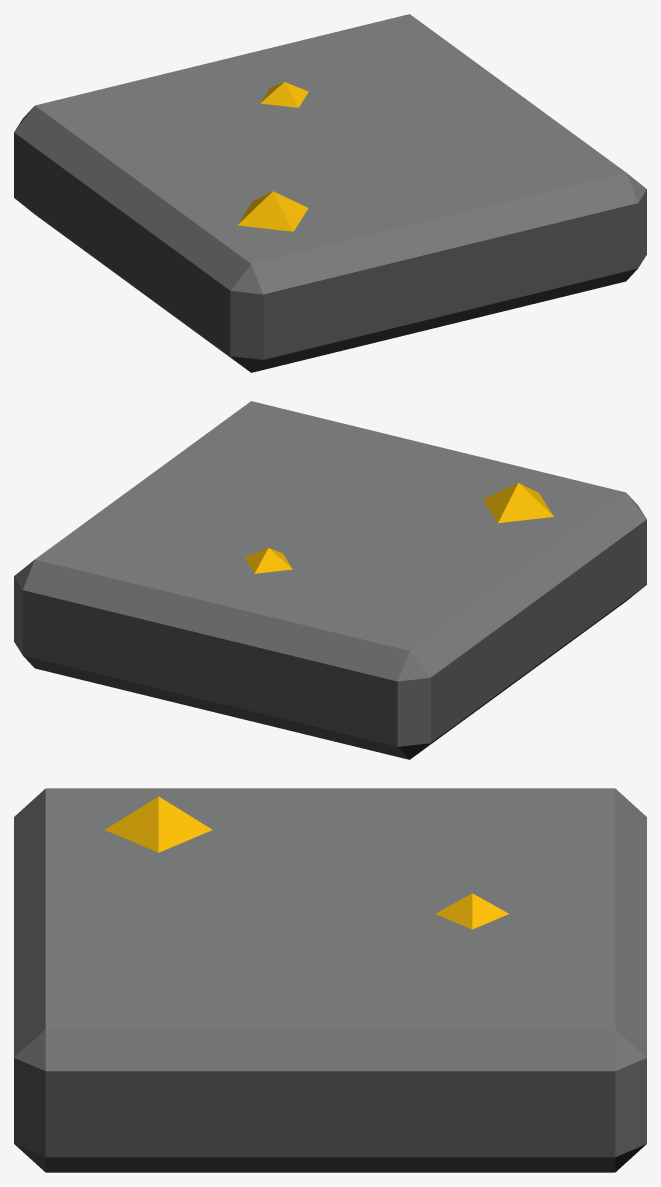
The model's file is m_kub_ore_flatPlate.FBX.
3 renders of one model, top to bottom at view 1: azimuth 30°, elevation 25°; view 2: azimuth 150°, elevation 25°; view 3: azimuth 270°, elevation 25°, orthographic. The views are drawn at different scales.
Parts seen in each view (by area): view 1: m_kub_ore_flatPlate; view 2: m_kub_ore_flatPlate; view 3: m_kub_ore_flatPlate.
Part boxes in pixels (box(x1,y1,x2,y2)): m_kub_ore_flatPlate: box(14, 14, 646, 372); m_kub_ore_flatPlate: box(14, 401, 646, 759); m_kub_ore_flatPlate: box(14, 788, 646, 1172).
Bounding box in the file's own units: 2 × 0.6171 × 2.
